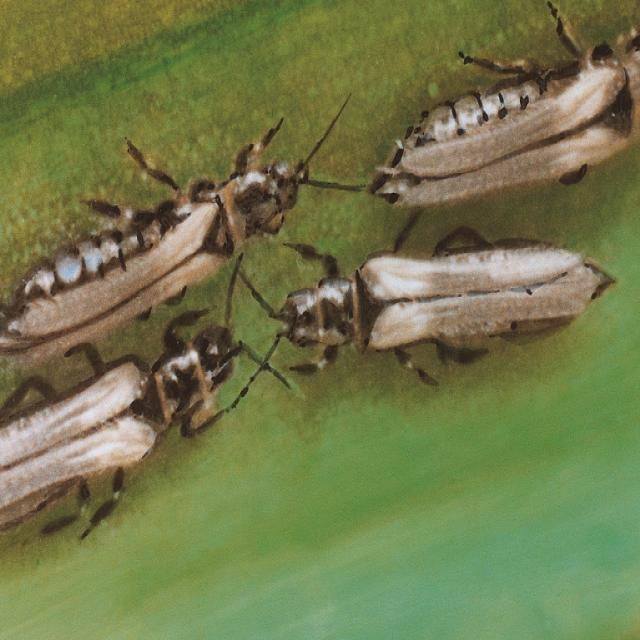Thrip-Adult-: (0, 82, 373, 364), (0, 280, 265, 524), (239, 222, 624, 377), (368, 9, 639, 205)
